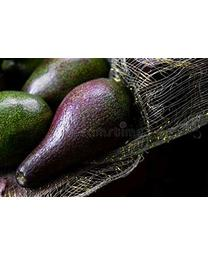avocado: (15, 77, 141, 190)
